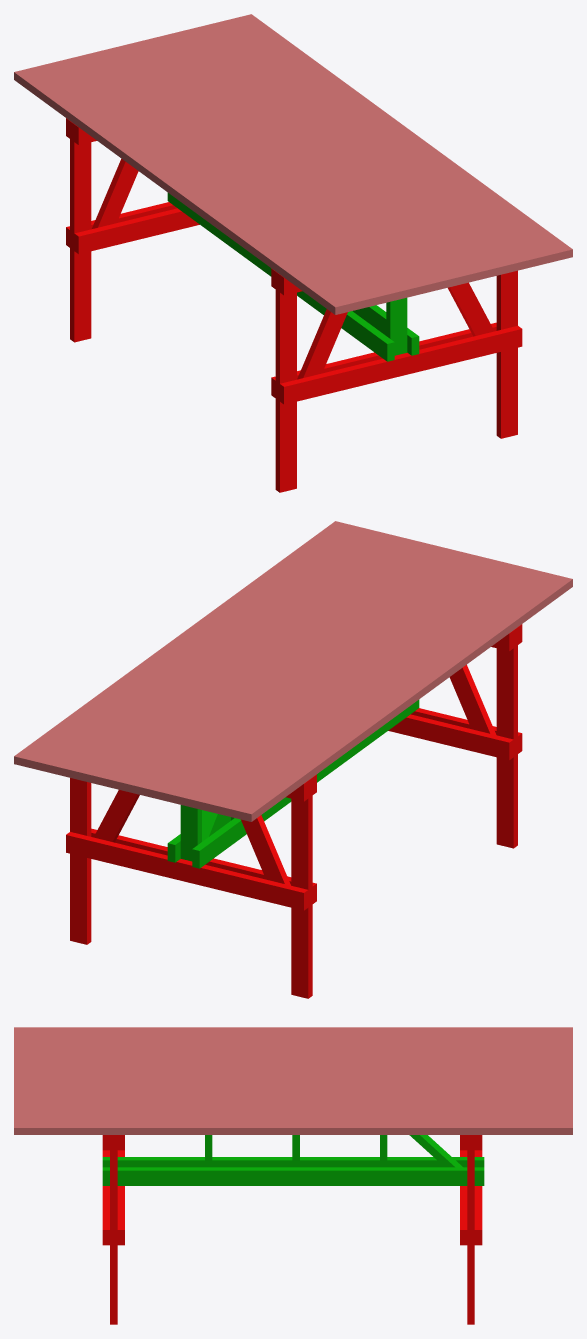
The model's file is result.glb.
3 views of the same model, one above another, from view 1: azimuth 30°, elevation 25°; view 2: azimuth 150°, elevation 25°; view 3: azimuth 270°, elevation 25° (orthographic). The views are drawn at different scales.
Parts seen in each view (by area): view 1: 99b92edb-65f7-4b4b-9caf-b6ccd68e1d48__Box, a1dd2db5-336a-48bd-bae9-2bbb775de3f6__undefined, e7704154-0204-4025-8392-c61a1ba40162__undefined, 3324975b-b831-4020-99ed-73193cb09dbf__undefined, 0f03f16d-a907-4bdb-b1a7-aedea21c9342__undefined, dbf9a6ba-6f7b-47e0-a1b8-ca3335b25dda__undefined, 9eff504b-b4b6-41c2-a894-944ad72b4c0f__undefined, 56bae82a-5a68-4ce5-ab55-ef932de2b122__undefined, d6c9996a-89cc-45b6-bac0-42da0b8b4085__undefined, f9a04cc3-b80b-40c6-b19d-ecb13ec65f10__undefined, ec0d8e1f-676e-4e32-9401-b4ac2a348566__undefined, 99bf2087-07b6-4caf-bc9d-c29cc3509f38__undefined (+15 smaller); view 2: 99b92edb-65f7-4b4b-9caf-b6ccd68e1d48__Box, dbf9a6ba-6f7b-47e0-a1b8-ca3335b25dda__undefined, 56bae82a-5a68-4ce5-ab55-ef932de2b122__undefined, 3324975b-b831-4020-99ed-73193cb09dbf__undefined, a1dd2db5-336a-48bd-bae9-2bbb775de3f6__undefined, e7704154-0204-4025-8392-c61a1ba40162__undefined, 9eff504b-b4b6-41c2-a894-944ad72b4c0f__undefined, 0f03f16d-a907-4bdb-b1a7-aedea21c9342__undefined, 0888c6fd-4ec1-4737-abcd-a3d50638f90b__undefined, f9a04cc3-b80b-40c6-b19d-ecb13ec65f10__undefined, 99bf2087-07b6-4caf-bc9d-c29cc3509f38__undefined, b5853457-ffc0-4caa-bdb8-daf2be51d791__undefined (+14 smaller); view 3: 99bf2087-07b6-4caf-bc9d-c29cc3509f38__undefined, a59b3dbd-ad40-43f0-8234-41117c1dd8b7__strutH, 99b92edb-65f7-4b4b-9caf-b6ccd68e1d48__Box, dbf9a6ba-6f7b-47e0-a1b8-ca3335b25dda__undefined, e7704154-0204-4025-8392-c61a1ba40162__undefined, 9eff504b-b4b6-41c2-a894-944ad72b4c0f__undefined, a1dd2db5-336a-48bd-bae9-2bbb775de3f6__undefined, 56bae82a-5a68-4ce5-ab55-ef932de2b122__undefined, 0f03f16d-a907-4bdb-b1a7-aedea21c9342__undefined, b5853457-ffc0-4caa-bdb8-daf2be51d791__undefined, d6c9996a-89cc-45b6-bac0-42da0b8b4085__undefined, f9a04cc3-b80b-40c6-b19d-ecb13ec65f10__undefined (+11 smaller).
Boxes of the visible parts, left/top/right/bottom form: 99b92edb-65f7-4b4b-9caf-b6ccd68e1d48__Box: left=14, top=68, right=352, bottom=314; a1dd2db5-336a-48bd-bae9-2bbb775de3f6__undefined: left=99, top=47, right=437, bottom=294; e7704154-0204-4025-8392-c61a1ba40162__undefined: left=48, top=59, right=386, bottom=306; 3324975b-b831-4020-99ed-73193cb09dbf__undefined: left=65, top=55, right=403, bottom=302; 0f03f16d-a907-4bdb-b1a7-aedea21c9342__undefined: left=133, top=39, right=471, bottom=285; dbf9a6ba-6f7b-47e0-a1b8-ca3335b25dda__undefined: left=31, top=64, right=369, bottom=310; 9eff504b-b4b6-41c2-a894-944ad72b4c0f__undefined: left=82, top=51, right=420, bottom=298; 56bae82a-5a68-4ce5-ab55-ef932de2b122__undefined: left=116, top=43, right=454, bottom=290; d6c9996a-89cc-45b6-bac0-42da0b8b4085__undefined: left=184, top=26, right=521, bottom=273; f9a04cc3-b80b-40c6-b19d-ecb13ec65f10__undefined: left=201, top=22, right=538, bottom=269; ec0d8e1f-676e-4e32-9401-b4ac2a348566__undefined: left=218, top=18, right=555, bottom=265; 99bf2087-07b6-4caf-bc9d-c29cc3509f38__undefined: left=235, top=14, right=572, bottom=261; 99b92edb-65f7-4b4b-9caf-b6ccd68e1d48__Box: left=234, top=575, right=572, bottom=821; dbf9a6ba-6f7b-47e0-a1b8-ca3335b25dda__undefined: left=217, top=571, right=555, bottom=817; 56bae82a-5a68-4ce5-ab55-ef932de2b122__undefined: left=132, top=550, right=470, bottom=796; 3324975b-b831-4020-99ed-73193cb09dbf__undefined: left=183, top=562, right=521, bottom=809; a1dd2db5-336a-48bd-bae9-2bbb775de3f6__undefined: left=149, top=554, right=487, bottom=801; e7704154-0204-4025-8392-c61a1ba40162__undefined: left=200, top=566, right=538, bottom=813; 9eff504b-b4b6-41c2-a894-944ad72b4c0f__undefined: left=166, top=558, right=504, bottom=805; 0f03f16d-a907-4bdb-b1a7-aedea21c9342__undefined: left=115, top=546, right=453, bottom=792; 0888c6fd-4ec1-4737-abcd-a3d50638f90b__undefined: left=99, top=542, right=436, bottom=788; f9a04cc3-b80b-40c6-b19d-ecb13ec65f10__undefined: left=48, top=529, right=385, bottom=776; 99bf2087-07b6-4caf-bc9d-c29cc3509f38__undefined: left=14, top=521, right=351, bottom=767; b5853457-ffc0-4caa-bdb8-daf2be51d791__undefined: left=82, top=537, right=419, bottom=784; 99bf2087-07b6-4caf-bc9d-c29cc3509f38__undefined: left=14, top=1121, right=572, bottom=1134; a59b3dbd-ad40-43f0-8234-41117c1dd8b7__strutH: left=102, top=1167, right=484, bottom=1185; 99b92edb-65f7-4b4b-9caf-b6ccd68e1d48__Box: left=14, top=1027, right=572, bottom=1034; dbf9a6ba-6f7b-47e0-a1b8-ca3335b25dda__undefined: left=14, top=1034, right=572, bottom=1041; e7704154-0204-4025-8392-c61a1ba40162__undefined: left=14, top=1041, right=572, bottom=1048; 9eff504b-b4b6-41c2-a894-944ad72b4c0f__undefined: left=14, top=1056, right=572, bottom=1063; a1dd2db5-336a-48bd-bae9-2bbb775de3f6__undefined: left=14, top=1063, right=572, bottom=1070; 56bae82a-5a68-4ce5-ab55-ef932de2b122__undefined: left=14, top=1070, right=572, bottom=1077; 0f03f16d-a907-4bdb-b1a7-aedea21c9342__undefined: left=14, top=1077, right=572, bottom=1084; b5853457-ffc0-4caa-bdb8-daf2be51d791__undefined: left=14, top=1092, right=572, bottom=1099; d6c9996a-89cc-45b6-bac0-42da0b8b4085__undefined: left=14, top=1099, right=572, bottom=1106; f9a04cc3-b80b-40c6-b19d-ecb13ec65f10__undefined: left=14, top=1106, right=572, bottom=1113.
Bounding box in the file's own units: 800 × 725 × 1870.
